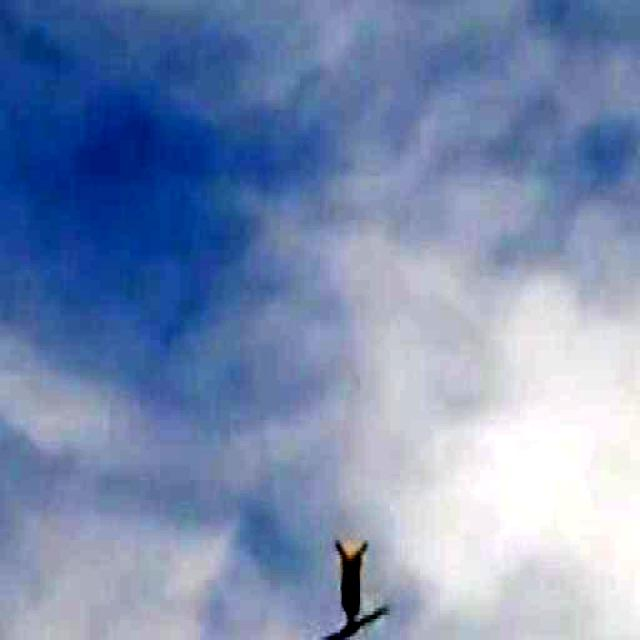drone: (314, 508, 381, 640)
